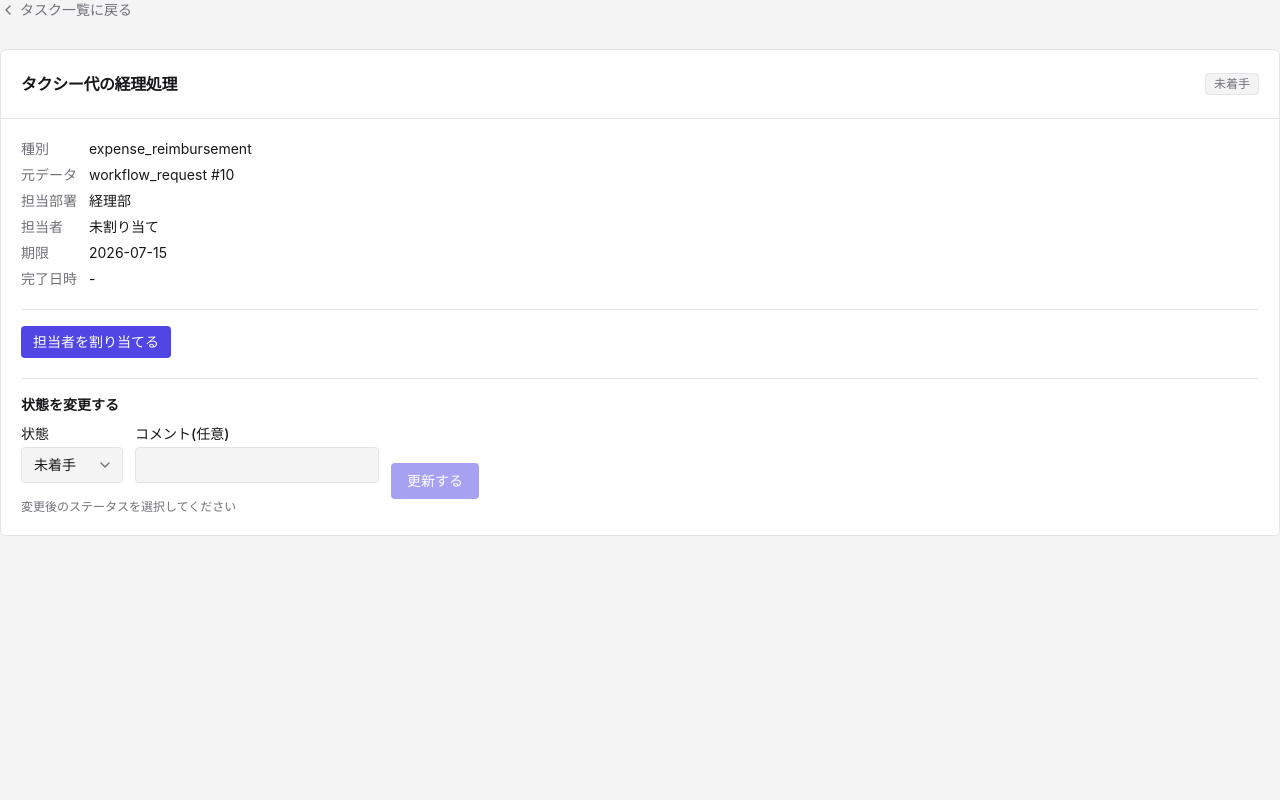
Test: BackOfficeTaskDetailPage › keeps the dialog open and shows the error inside it when assigning fails
Click the button "担当者を割り当てる".
click(96, 342)  # box top-left (21, 326), bottom-right (171, 358)
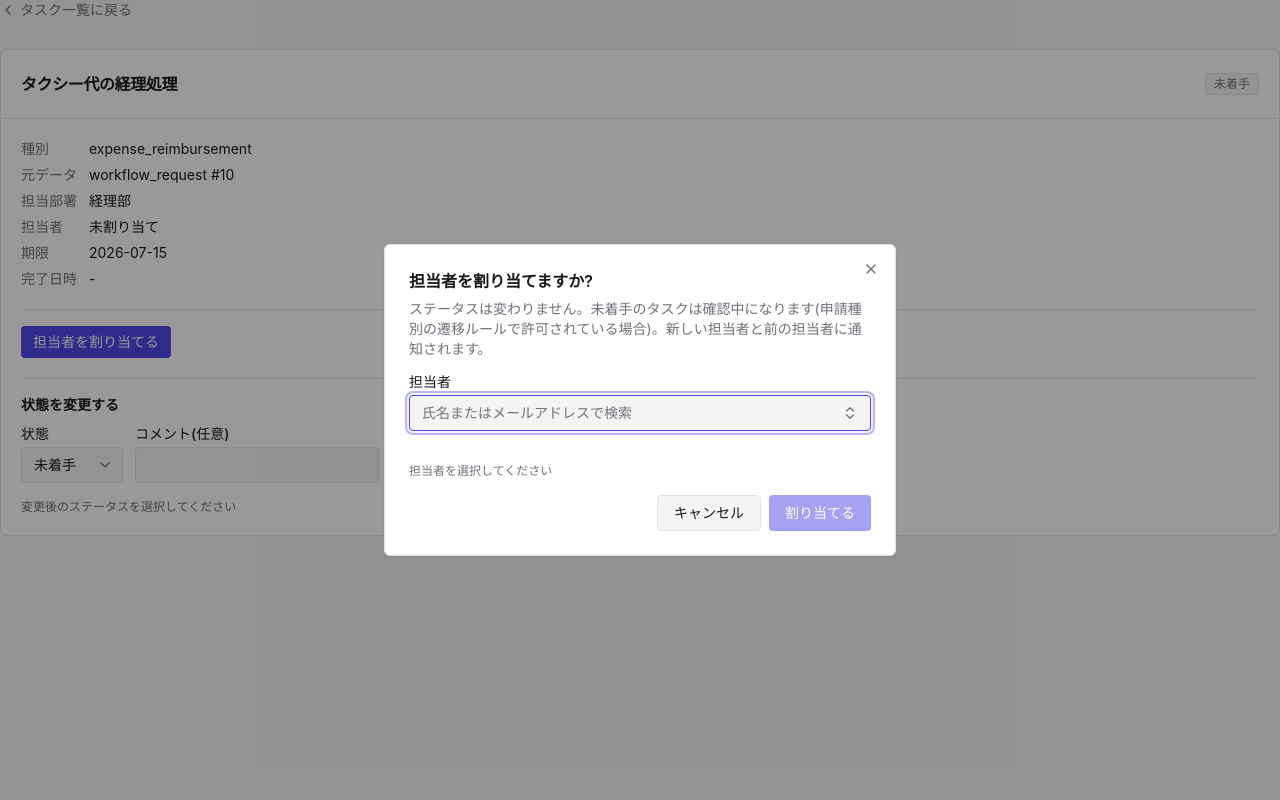
Click the dropdown named "担当者".
click(527, 412)  # box top-left (409, 395), bottom-right (871, 431)
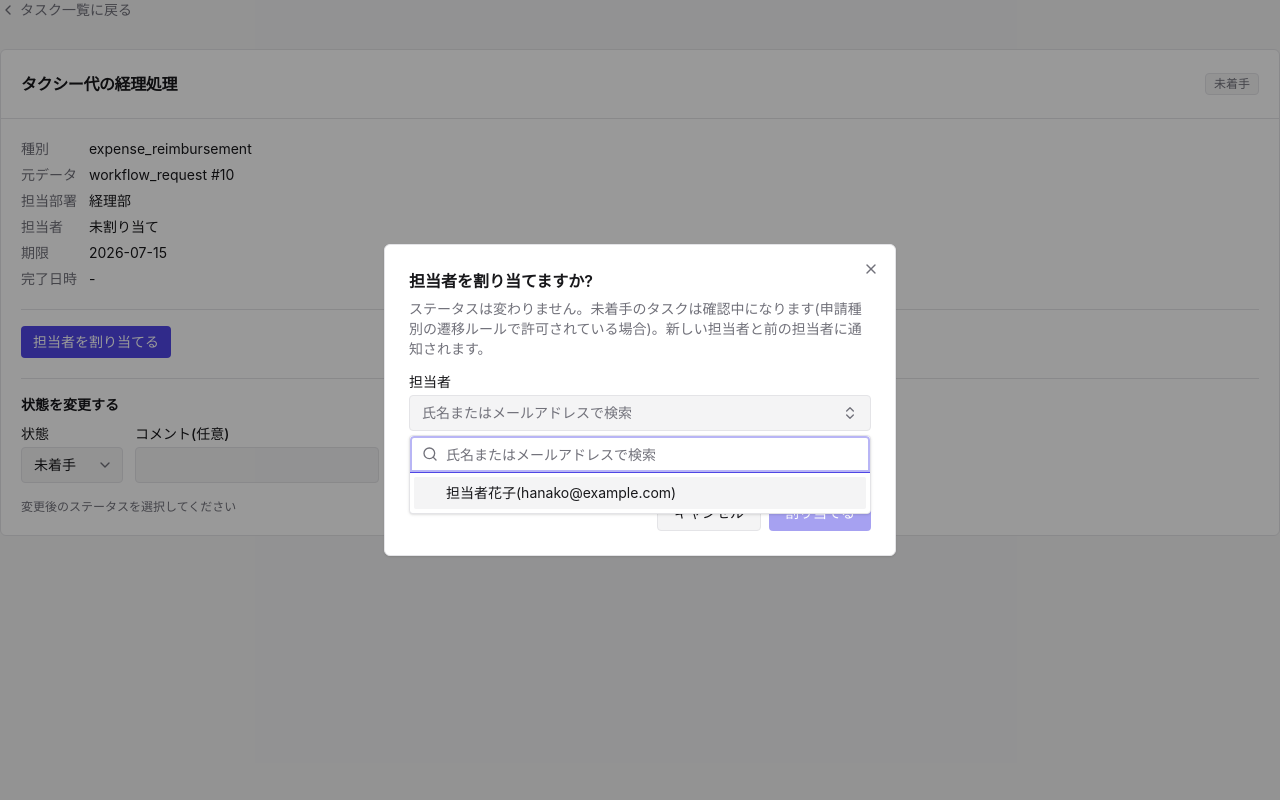
Type "花子" into the 2nd dropdown with placeholder "氏名またはメールアドレスで検索".
click(652, 454); type("花子")  # box top-left (446, 436), bottom-right (858, 472)
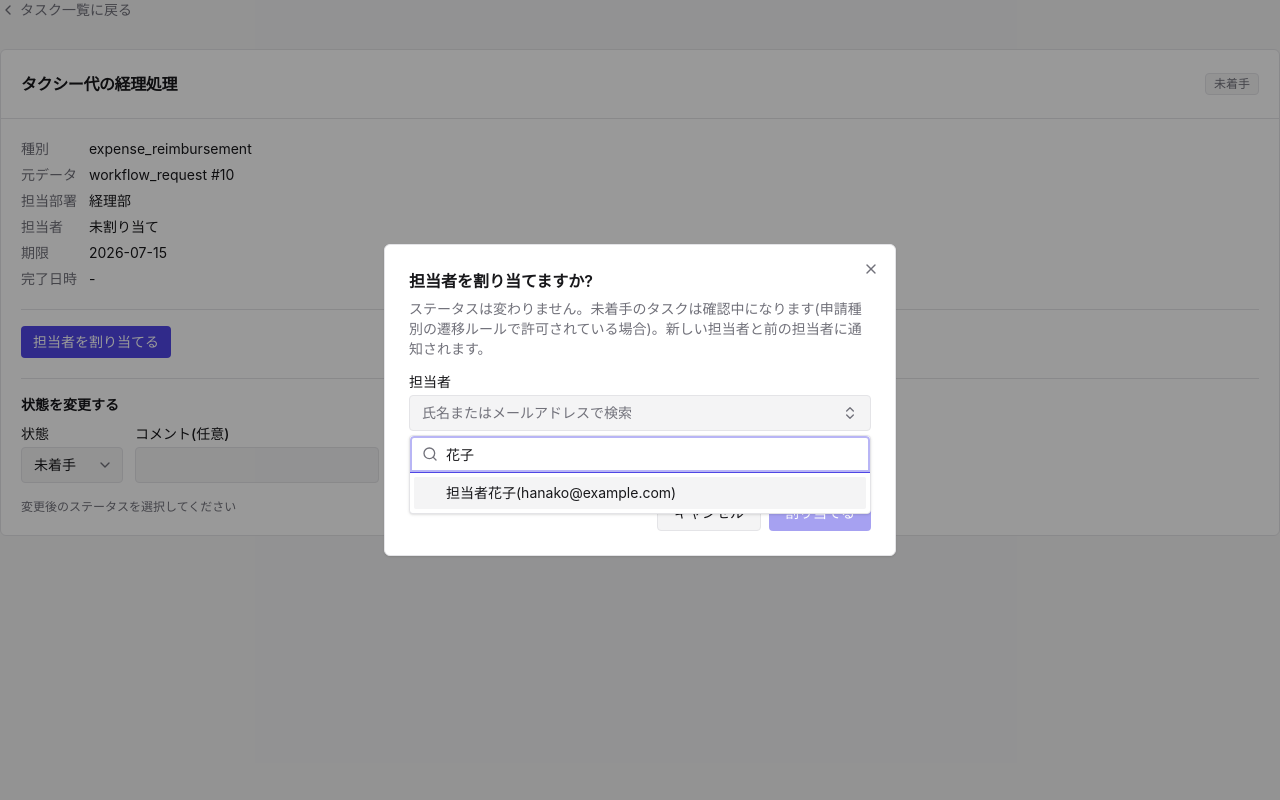
Click the option "担当者花子(hanako@example.com)".
click(640, 493)  # box top-left (414, 477), bottom-right (866, 509)
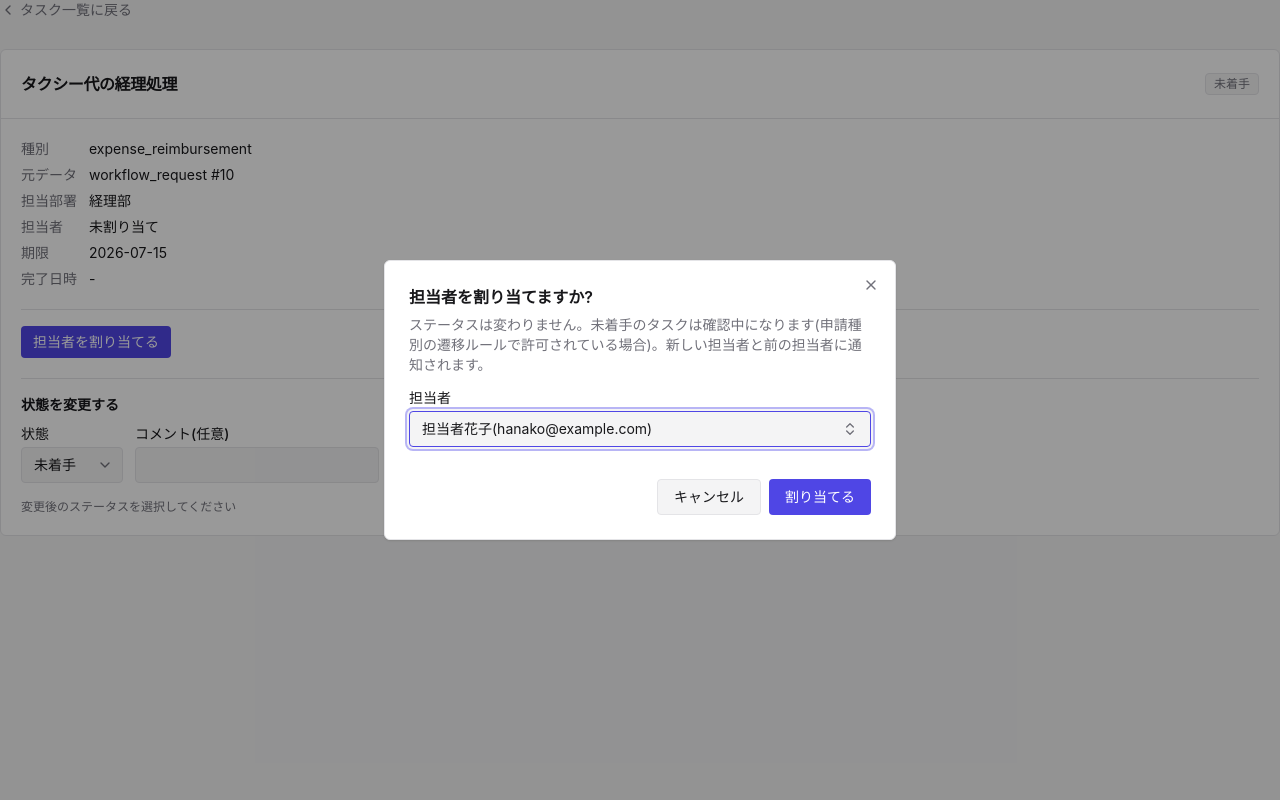
Click the button "割り当てる".
click(820, 497)  # box top-left (769, 479), bottom-right (871, 515)
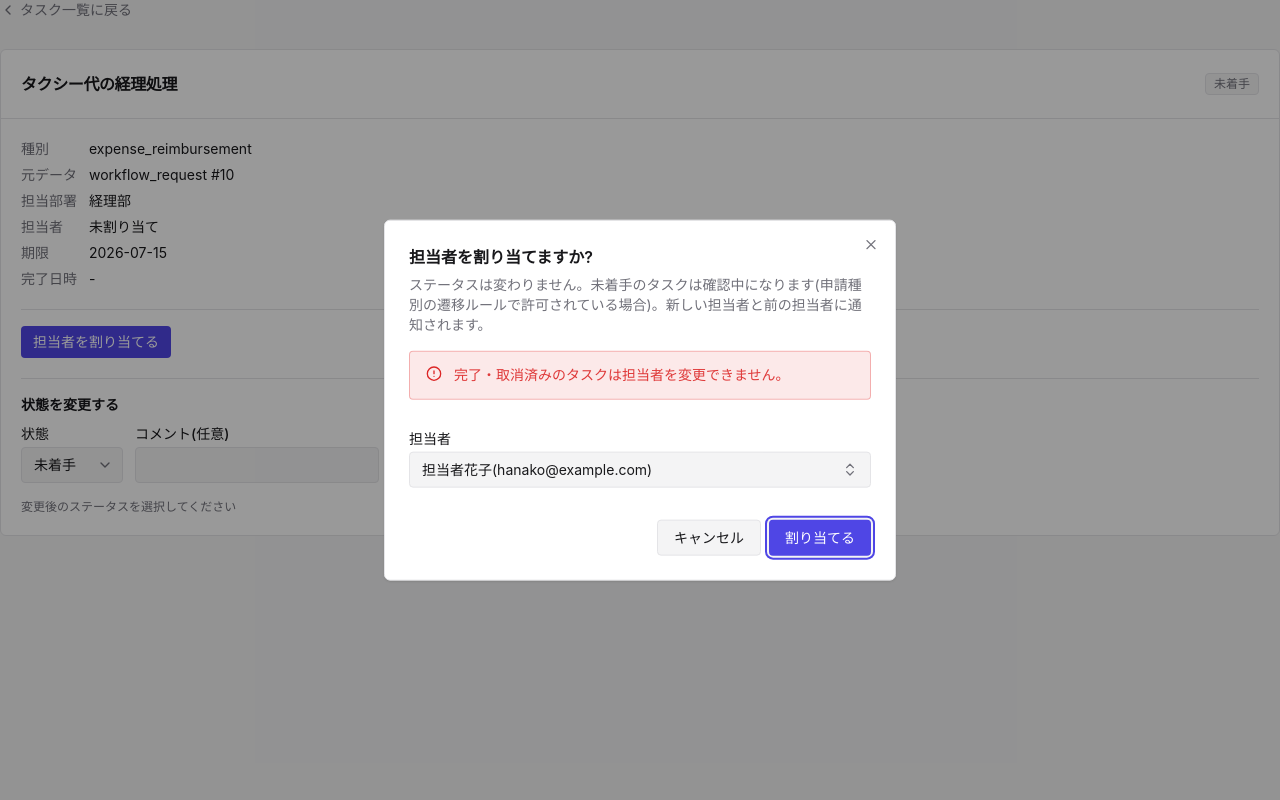
expect the dialog is shown: met, box top-left (384, 220), bottom-right (896, 580)
expect the text "完了・取消済みのタスクは担当者を変更できません。" is shown: met, box top-left (454, 364), bottom-right (790, 386)
